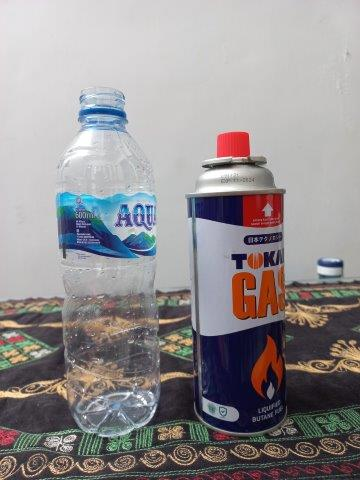botolplastik: (56, 89, 162, 435)
kaleng: (184, 132, 287, 435)
